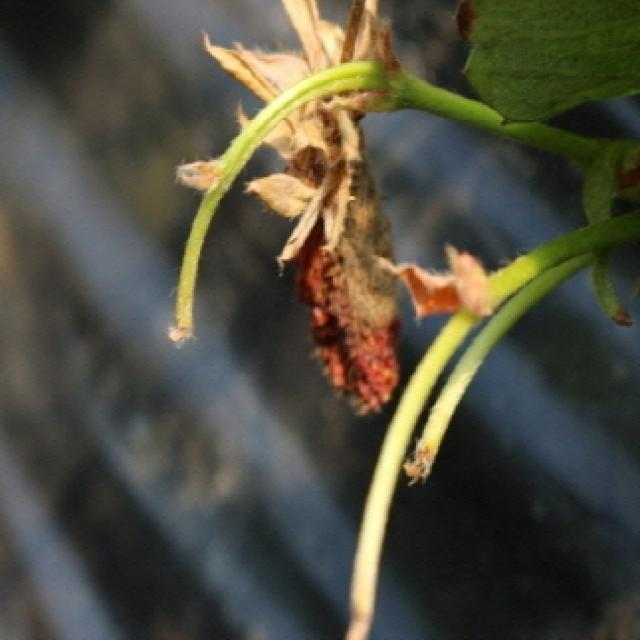Gray Mold: (204, 0, 404, 424)
